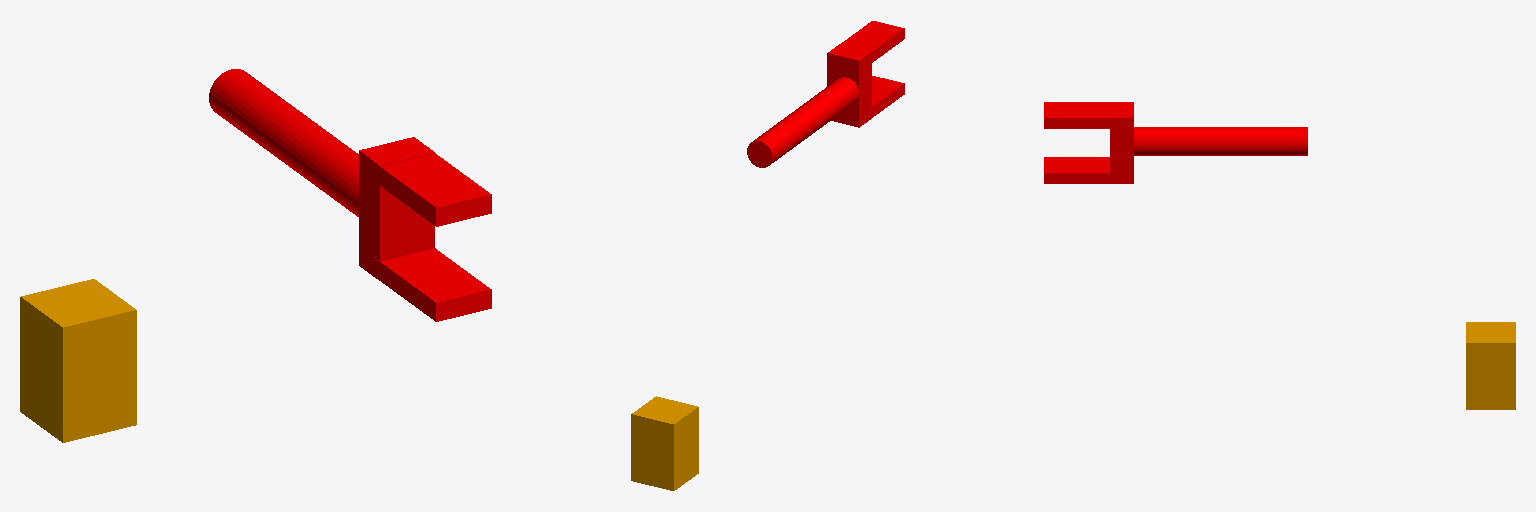
URDF robot description (myfirst):
<?xml   version="1.0"?>
<robot name="myfirst">    
    <material name="red">
        <color rgba="1 0 0 0.8" />
    </material>
    <material name="green">
        <color rgba="0 1 0 0.8" />
    </material>

    <link name="baselink">
        <visual>
            <geometry>
                <mesh filename="base.stl" />
            </geometry>
            <origin xyz="0 0 0"/>
        </visual>
        <collision>
            <origin xyz="0 0 0"/>
            <geometry>
                <mesh filename="base.stl" />
            </geometry>
        </collision>
    </link>

    <link name="link1">
        <visual>
            <geometry>
                <mesh filename="p1.stl" />
            </geometry>
            <origin xyz="0 0 1" rpy="0 0 0 " />
            <material name="green" />
        </visual>
        <collision>
            <geometry>
                <mesh filename="p1.stl" />
            </geometry>
            <origin xyz="0 0 1" rpy="0 0 0 " />
        </collision>
    </link>

    <link name="link2">
        <visual>
            <geometry>
                <mesh filename="r1.stl" />
            </geometry>
            <origin xyz="0 0 0" rpy="0 1.5708 0" />
            <material name="red" />
        </visual>
        <collision>
            <geometry>
                <mesh filename="r1.stl" />
            </geometry>
            <origin xyz="0 0 0" rpy="0 0 0" />
        </collision>
    </link>
  
    <link name="end">
        <visual>
            <geometry>
                <mesh filename="end.stl" />
            </geometry>
            <origin xyz="0 0 0" rpy="-1.5708 0 1.5708"/>
            <material name="red" />
        </visual>
        <collision>
            <geometry>
                <mesh filename="end.stl" />
            </geometry>
            <origin xyz="0 0 0" rpy="-1.5708 0 1.5708"/>
        </collision>
    </link>

    <joint name="prismatic1" type="prismatic">
        <parent link="baselink"/>
        <child link="link1"/>
        <axis xyz="0 0 1"/>
        <origin xyz="0 0 0"/>
        <limit effort="30" velocity="1.0" lower="-2.2" upper="5" />        
    </joint>

    <joint name="revolute1" type="revolute">
        <parent link="link1"/>
        <child link="link2"/>
        <axis xyz="1 0 0"/>
        <origin xyz="0 0 2" />
        <limit effort="30" velocity="1.0" lower="-2.2" upper="5" /> 
    </joint>
    <joint name="prismatic2" type="prismatic">
        <parent link="link2"/>
        <child link="end"/>
        <axis xyz="0 0 1 "/>
        <origin xyz="0 -1.5 0" rpy="1.5708 0 0"/>
        <limit effort="30" velocity="1.0" lower="-2.2" upper="5" /> 
    </joint>

    
</robot>
    

--- What the picture shows (computed from the rendered views, not written in the file) ---
The picture shows the robot from 3 angles, left to right: view 1: azimuth 30°, elevation 25°; view 2: azimuth 150°, elevation 25°; view 3: azimuth 270°, elevation 25°; orthographic projection.
Robot: myfirst — 4 links, 3 joints (1 revolute, 2 prismatic); root link baselink; default pose: every joint at zero.
Visible links, largest first — view 1: end, baselink; view 2: end, baselink; view 3: end, baselink.
Boxes of the visible links, x1,y1,x2,y2 form: end: (209, 69, 491, 321); baselink: (20, 279, 136, 442); end: (747, 21, 904, 167); baselink: (631, 396, 698, 490); end: (1044, 102, 1307, 183); baselink: (1466, 322, 1515, 409).
Size in the robot's own frame: 0.4 by 3.83 by 2.6 metres.
Meshes: 4 distinct files referenced, 2 mesh visuals loaded (2 binary STL); not drawn: 2 (reference not matched to a file when rendering).
